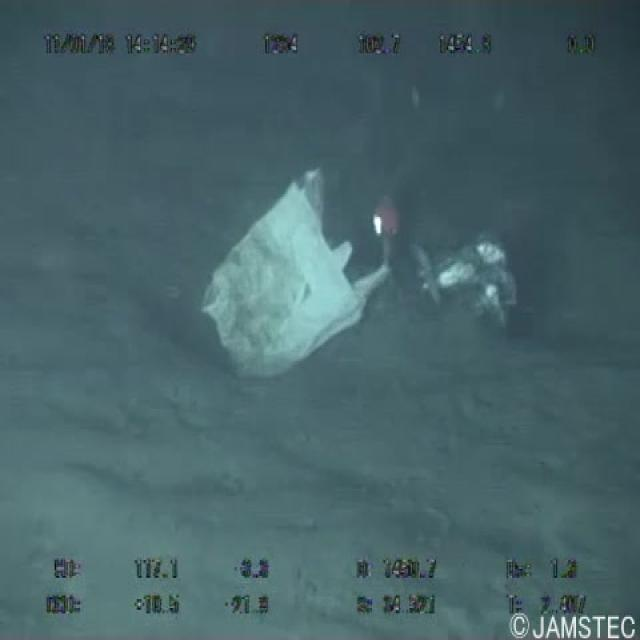plastic: (191, 162, 400, 384)
